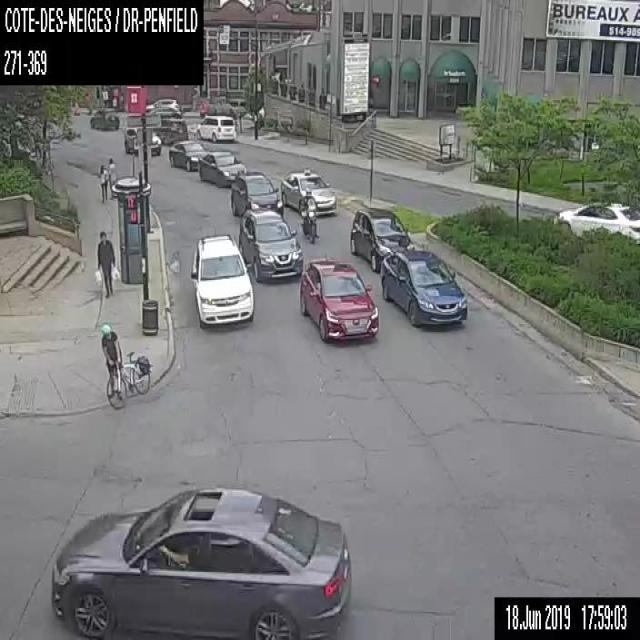pedestrian: (100, 324, 150, 408), (96, 230, 115, 296), (108, 156, 116, 199), (99, 163, 107, 201)
vehicle: (48, 484, 352, 639), (380, 248, 468, 328), (299, 258, 379, 342), (190, 234, 253, 326), (238, 207, 303, 281), (349, 206, 414, 271), (553, 199, 639, 248), (282, 168, 336, 215), (230, 170, 282, 216), (199, 150, 246, 186), (168, 139, 207, 171), (124, 125, 161, 155), (196, 114, 236, 141), (300, 188, 318, 242), (90, 106, 119, 130), (146, 105, 181, 118), (146, 97, 178, 111)
